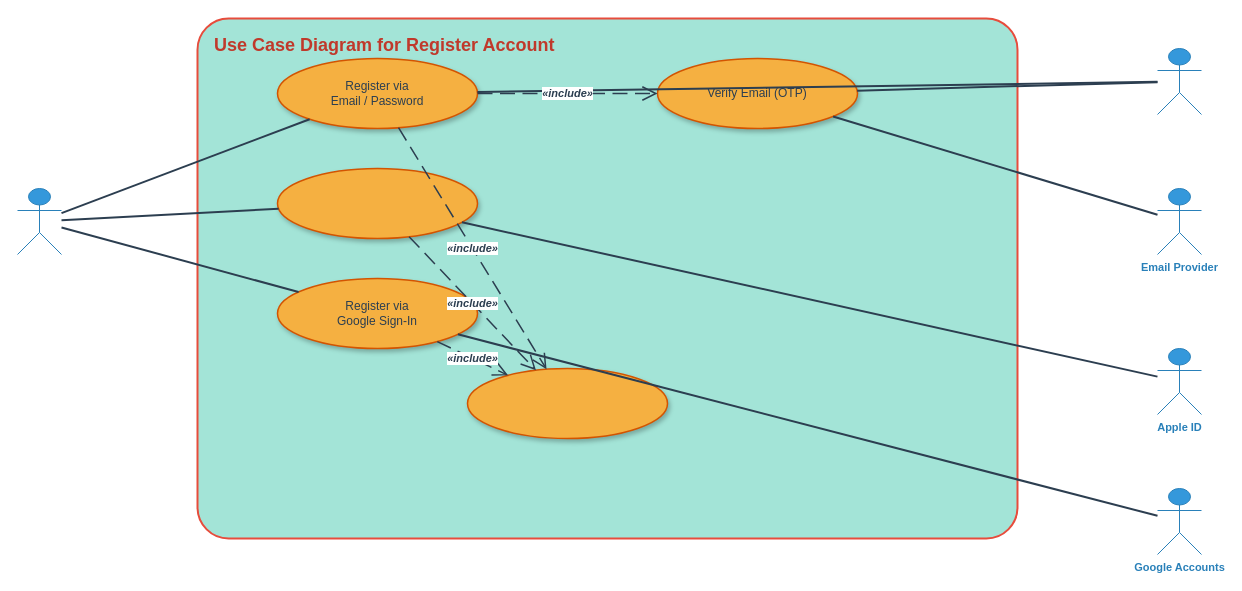
This 1242x591 diagram has some shape labels left out. Here are the shapes that lost their labels. From the top down, the centre of each, then its label:
At pixel 1179 81: "Supabase Auth".
At pixel 39 221: "Guest".
At pixel 378 204: "Register via Apple Sign-In".
At pixel 568 404: "Onboarding".
